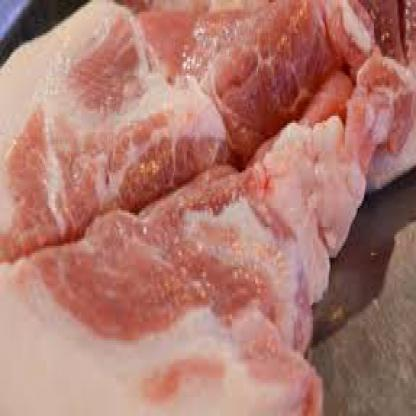pork: (4, 43, 298, 404)
